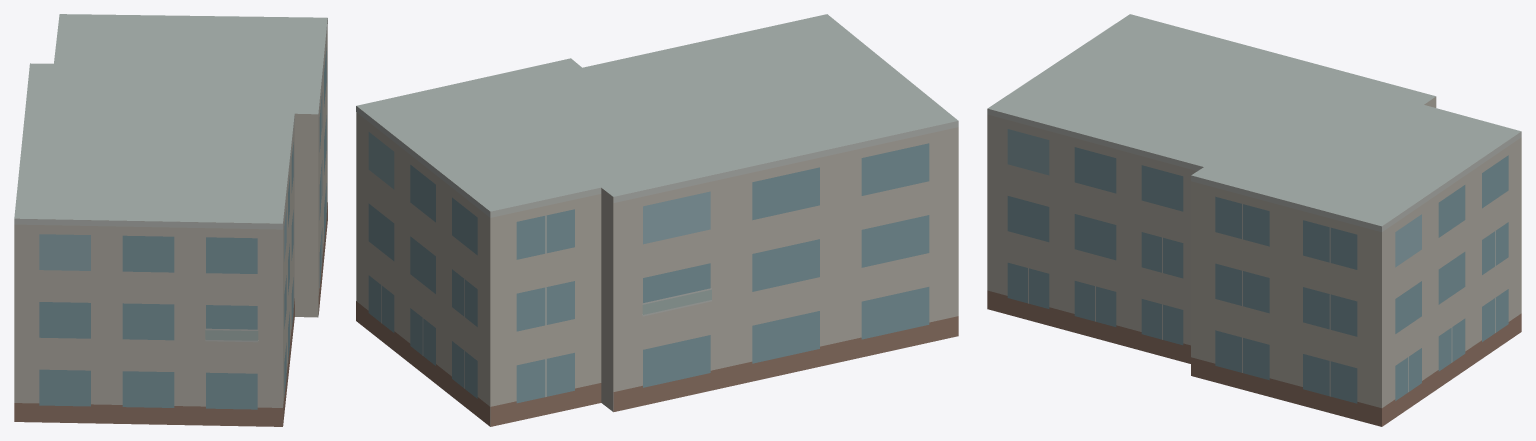
File: survey-upis-33016322.glb
The picture shows the model from 3 angles, left to right: view 1: azimuth 30°, elevation 25°; view 2: azimuth 150°, elevation 25°; view 3: azimuth 270°, elevation 25°; orthographic projection. The views are drawn at different scales.
Visible parts, largest first — view 1: survey-upis-33016322.tmp; view 2: survey-upis-33016322.tmp; view 3: survey-upis-33016322.tmp.
Boxes of the visible parts, x1,y1,x2,y2 form: survey-upis-33016322.tmp: [14, 14, 327, 426]; survey-upis-33016322.tmp: [356, 14, 958, 426]; survey-upis-33016322.tmp: [987, 14, 1521, 426].
Bounding box in the file's own units: 19.09 × 8.4 × 20.29.
